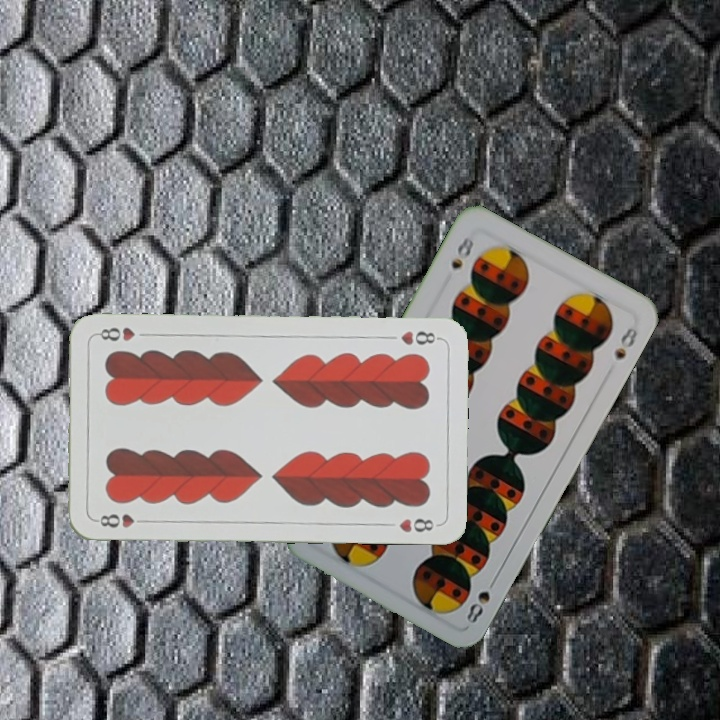H8: (91, 510, 151, 530), (396, 327, 442, 348)
S8: (462, 572, 500, 626), (446, 232, 477, 272)
